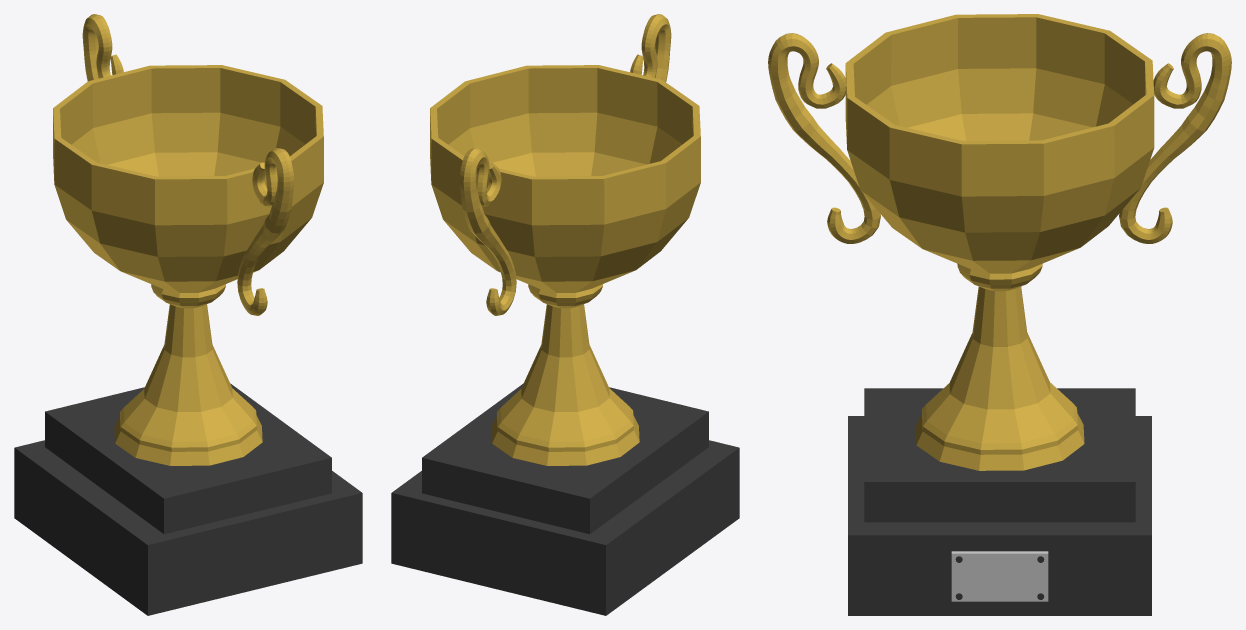
The model's file is trophy_FBX.fbx.
3 views of the same model, side by side, from view 1: azimuth 30°, elevation 25°; view 2: azimuth 150°, elevation 25°; view 3: azimuth 270°, elevation 25° (orthographic). The views are drawn at different scales.
Visible parts, largest first — view 1: Trophy; view 2: Trophy; view 3: Trophy.
Part boxes in pixels (x1,y1,x2,y2): Trophy: (14,14,362,615); Trophy: (391,14,739,615); Trophy: (768,14,1231,615).
Size of the model in its own units: 26.57 by 49.62 by 39.9.
